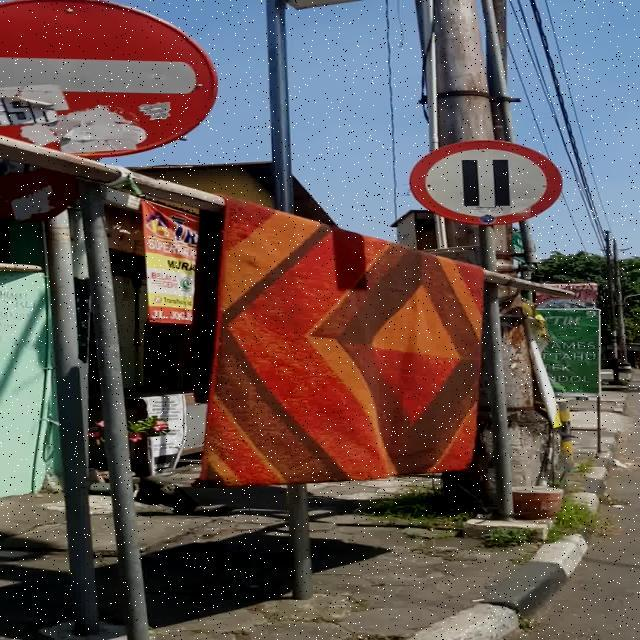Larangan Muatan - 10 ton: (410, 140, 562, 224)
